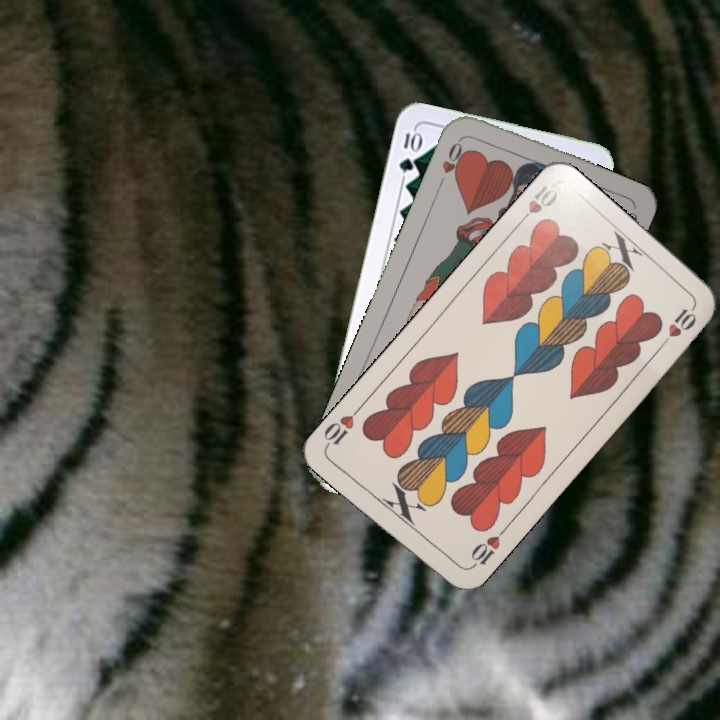G10: (395, 126, 423, 176)
H10: (512, 180, 560, 229), (464, 524, 509, 573)
HO: (434, 134, 471, 190)
